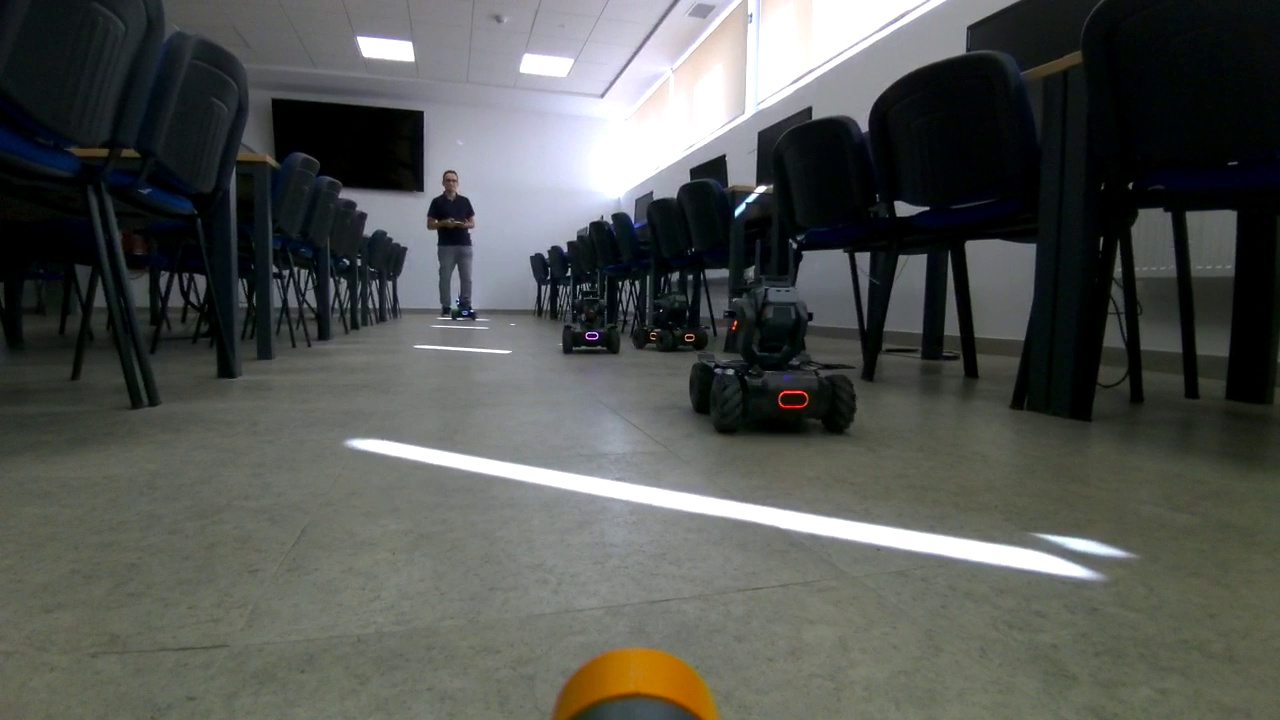robot: (686, 276, 860, 436), (636, 285, 715, 354), (557, 290, 622, 351)
